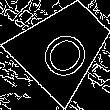O_NE: (30, 14, 96, 80)
